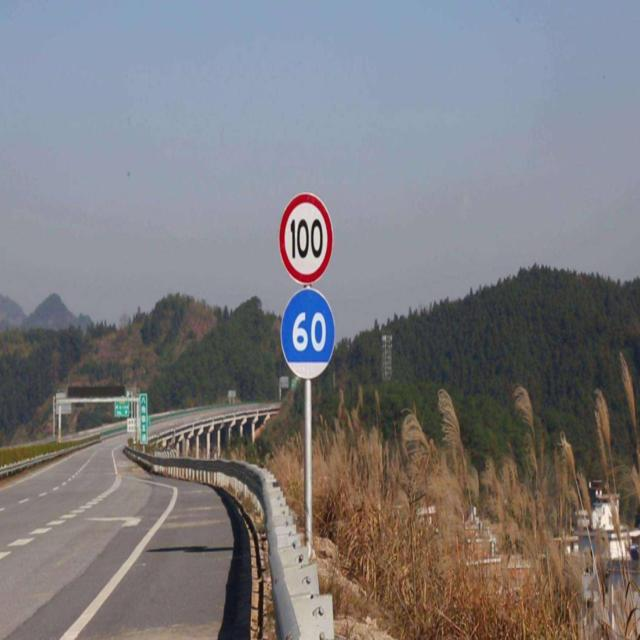speed limit 100: (279, 193, 334, 287)
speed limit 60: (281, 288, 335, 380)
